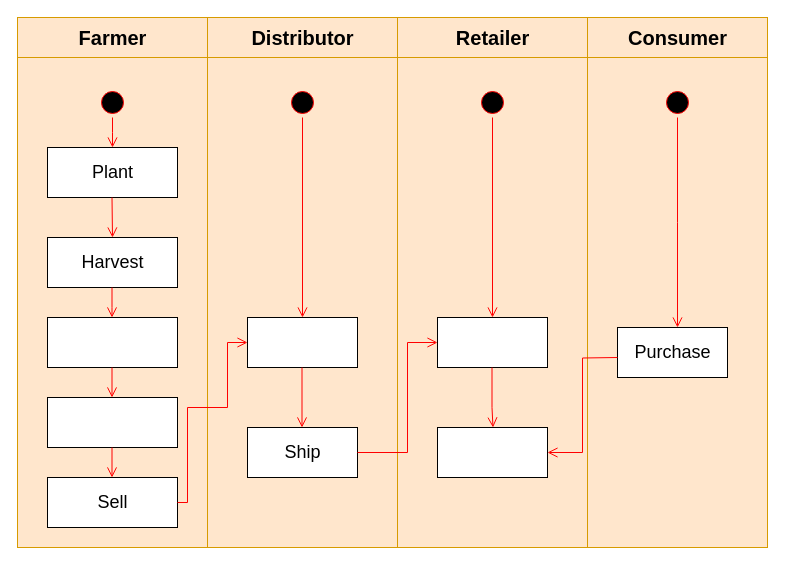
This 785x565 diagram has some shape labels left out. The shapes that lost their labels are listed below. From the top down, each one's box as (x1, y1, x2, y2) in pixels, then its label:
(46, 316, 178, 368): Process
(246, 316, 358, 368): Buy
(436, 316, 548, 368): Receive
(46, 396, 178, 448): Pack
(436, 426, 548, 478): Display
